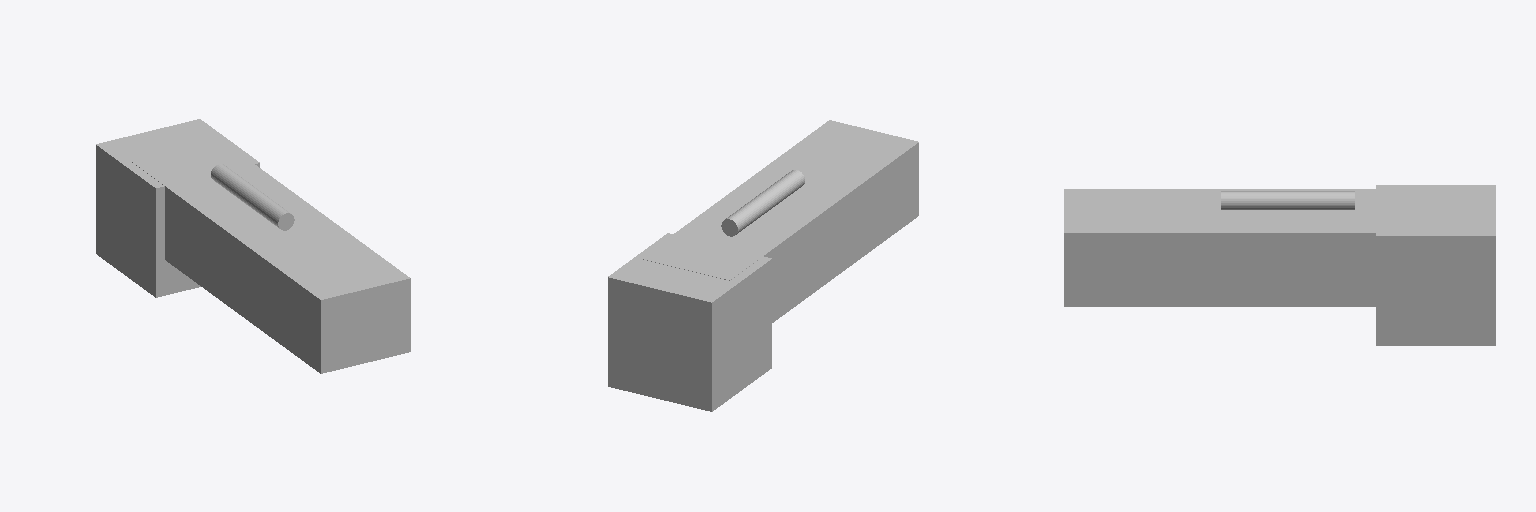
Rendered from gun2.obj.
3 renders of one model, left to right at view 1: azimuth 30°, elevation 25°; view 2: azimuth 150°, elevation 25°; view 3: azimuth 270°, elevation 25°, orthographic.
Parts seen in each view (by area): view 1: Cube; view 2: Cube; view 3: Cube.
Boxes of the visible parts, x1,y1,x2,y2 form: Cube: [96, 119, 410, 373]; Cube: [608, 120, 918, 411]; Cube: [1064, 185, 1495, 345].
Bounding box in the file's own units: 0.6372 × 0.7473 × 2.28.